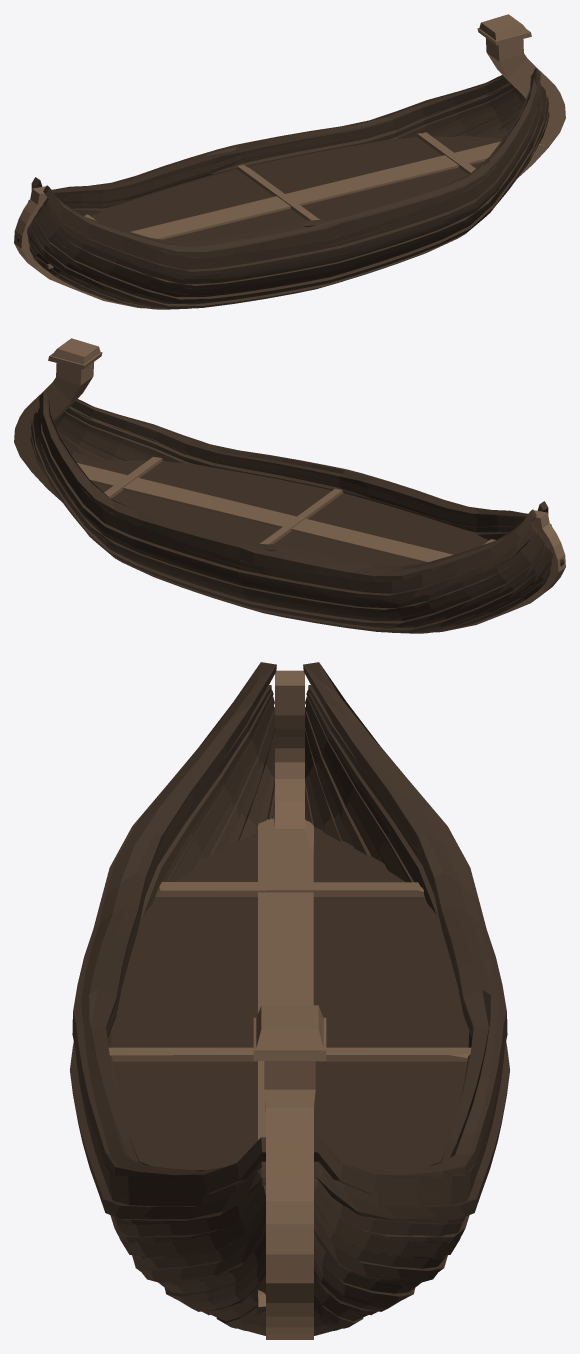
The model's file is SM_boat_norse_01_empty.fbx.
The picture shows the model from 3 angles, top to bottom: view 1: azimuth 30°, elevation 25°; view 2: azimuth 150°, elevation 25°; view 3: azimuth 270°, elevation 25°; orthographic projection. The views are drawn at different scales.
Parts seen in each view (by area): view 1: Object561; view 2: Object561; view 3: Object561.
Boxes of the visible parts, <box> form: Object561: <box>14,14,565,309</box>; Object561: <box>14,338,565,633</box>; Object561: <box>70,662,509,1339</box>.
Bounding box in the file's own units: 350 × 128 × 123.
